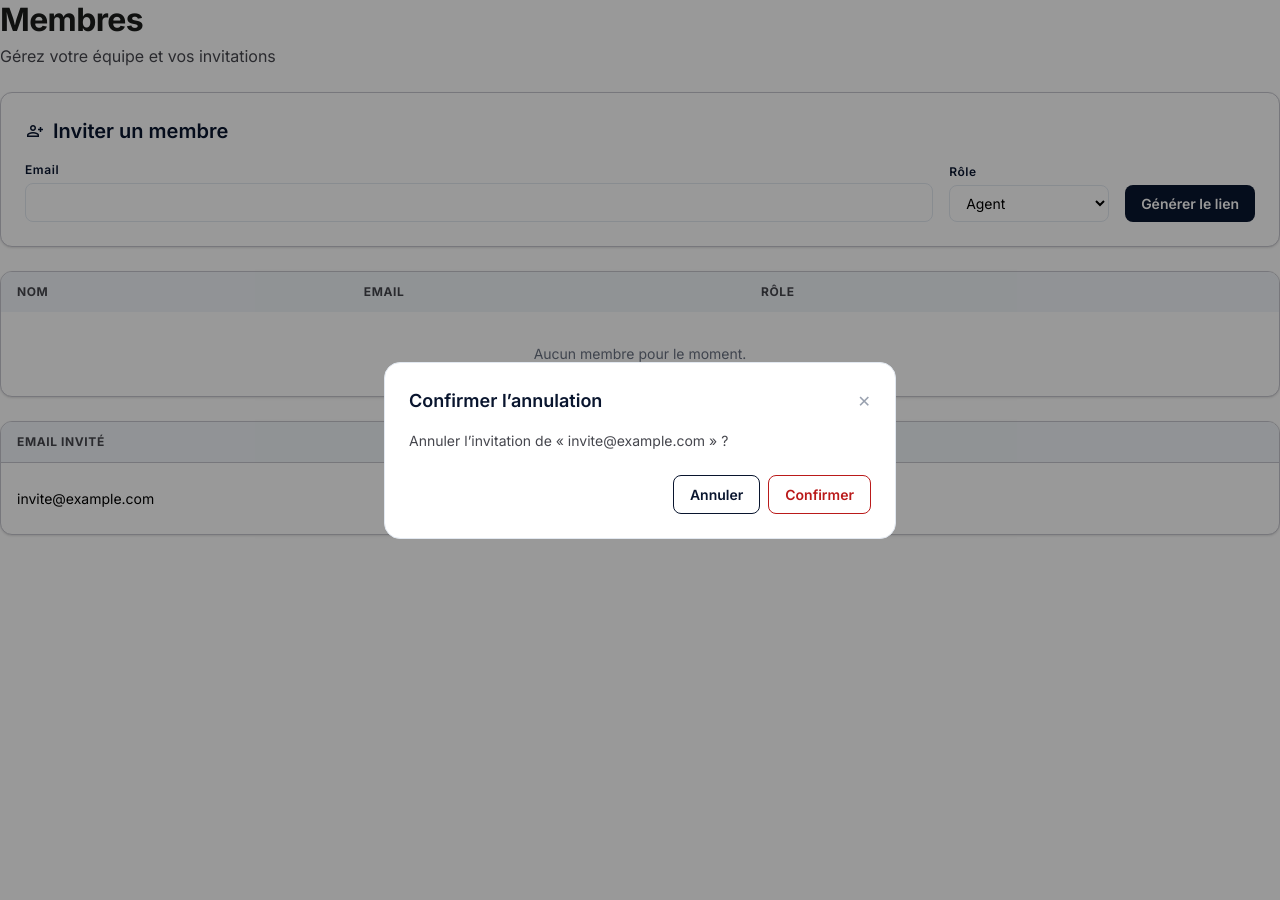
Scenario: Membres › ne supprime pas l’invitation si annulation dans la modale
The width and height of the screenshot is (1280, 900).
Earlier steps of the test are not shown.
What coordinates should you click on to do the following:
click the button "Annuler"
I would click on:
 (717, 494)
Its box is left=673, top=474, right=760, bottom=514.
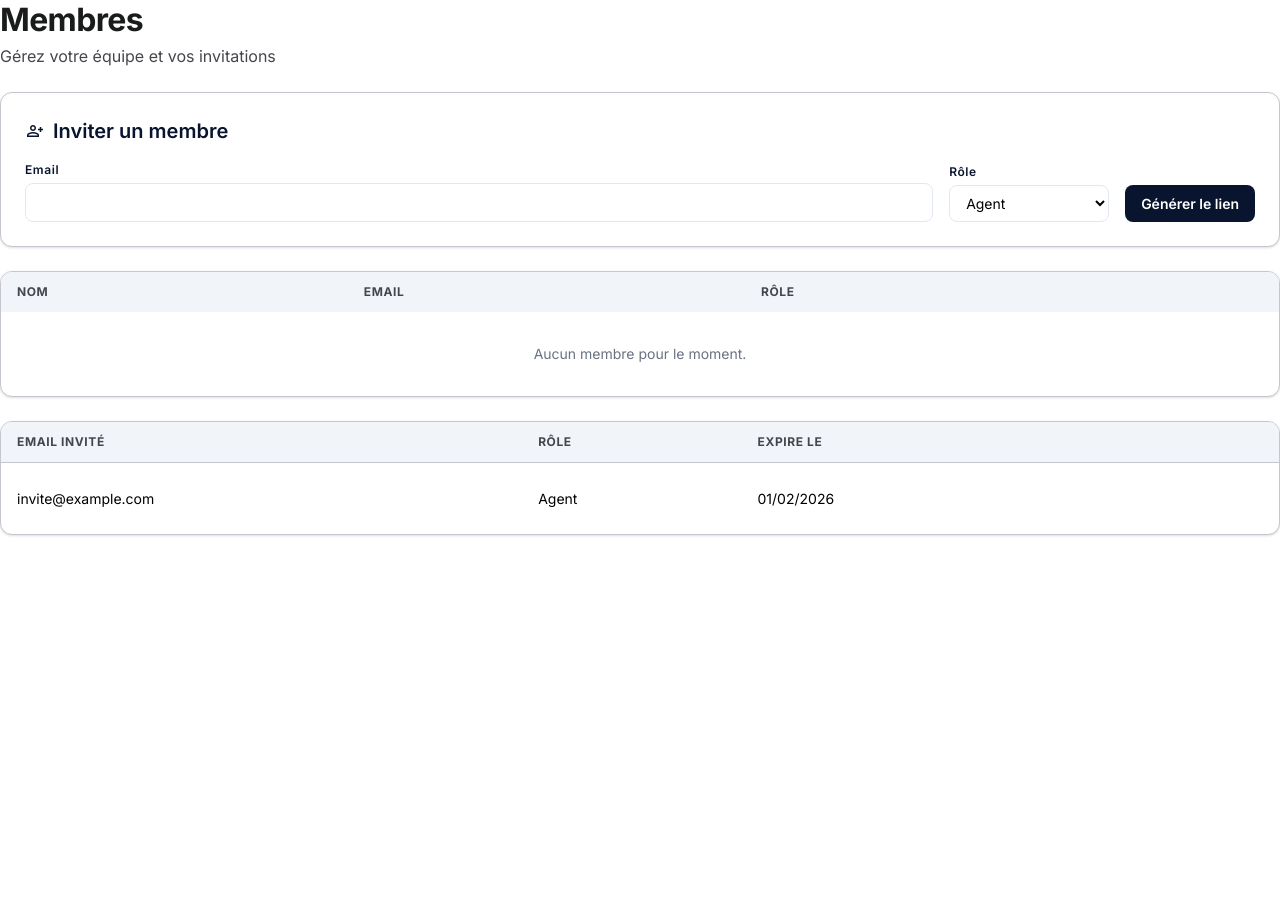
Expected: the text "Annuler l’invitation de « invite@example.com »" is gone
